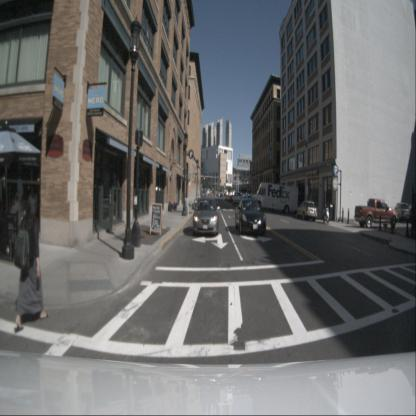human-pedestrian-adult: (13, 192, 50, 332), (6, 192, 24, 244)
vehicle-car: (235, 198, 267, 236), (192, 197, 218, 236), (296, 200, 317, 221), (393, 202, 411, 223), (233, 192, 241, 206), (225, 191, 233, 201)
vehicle-motorcycle: (322, 204, 330, 223)
vehicle-truck: (252, 182, 299, 215), (354, 198, 398, 229)
